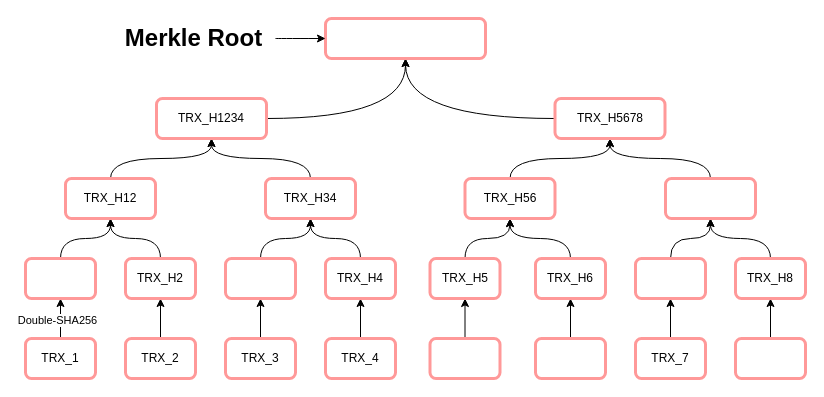
The diagram is 824 pixels wide and 397 high, and some of its shapes have lost their labels. Here are the shapes that lost their labels. From the top down, the centre of each, then its label:
(x=405, y=38): TRX_H12345678
(x=710, y=198): TRX_H78
(x=60, y=278): TRX_H1
(x=260, y=278): TRX_H3
(x=670, y=278): TRX_H7
(x=464, y=358): TRX_5
(x=570, y=358): TRX_6
(x=770, y=358): TRX_8
